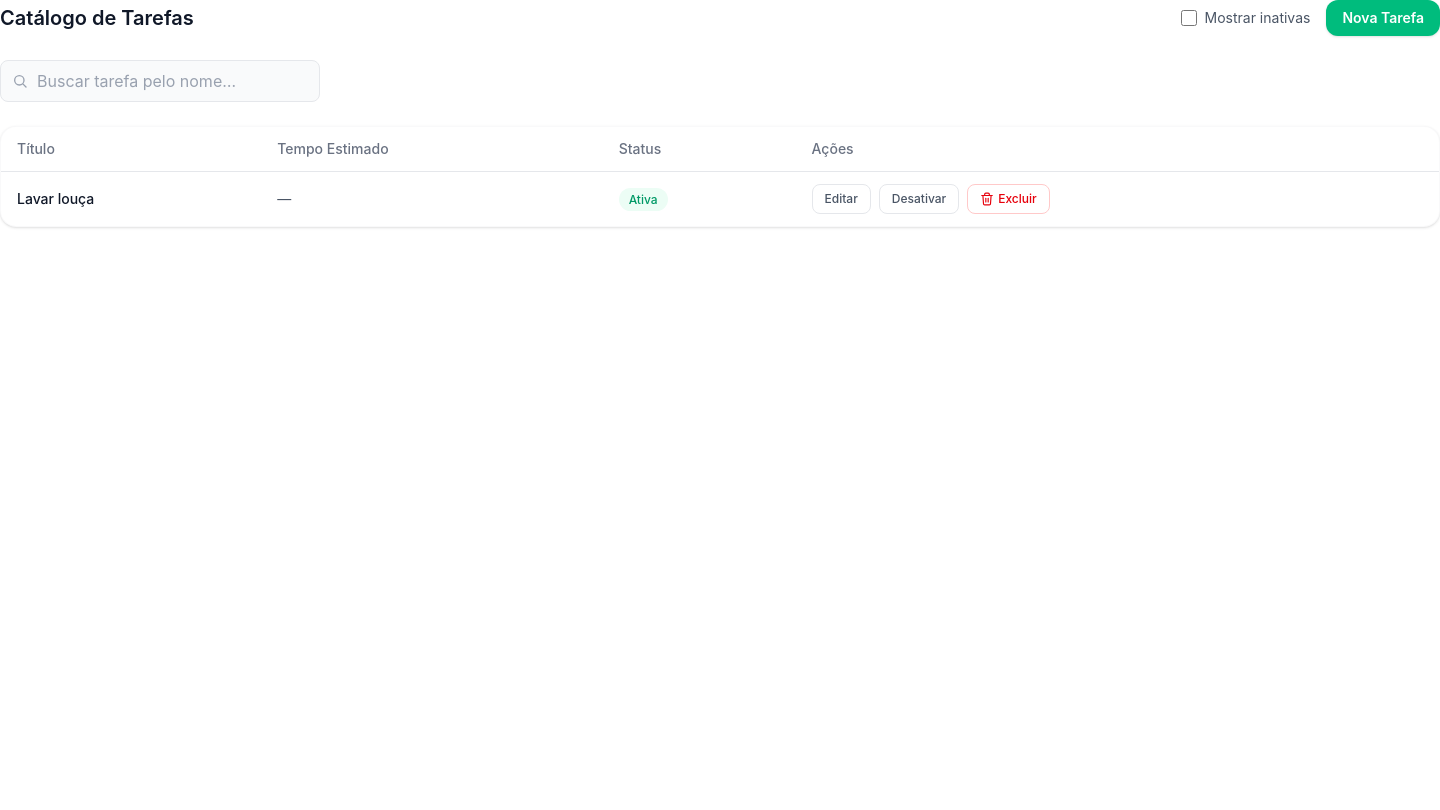
it: TasksPage › mostra o erro da API se a exclusão falhar
Click the button "Excluir" at (1008, 199), box [967,184,1050,214]
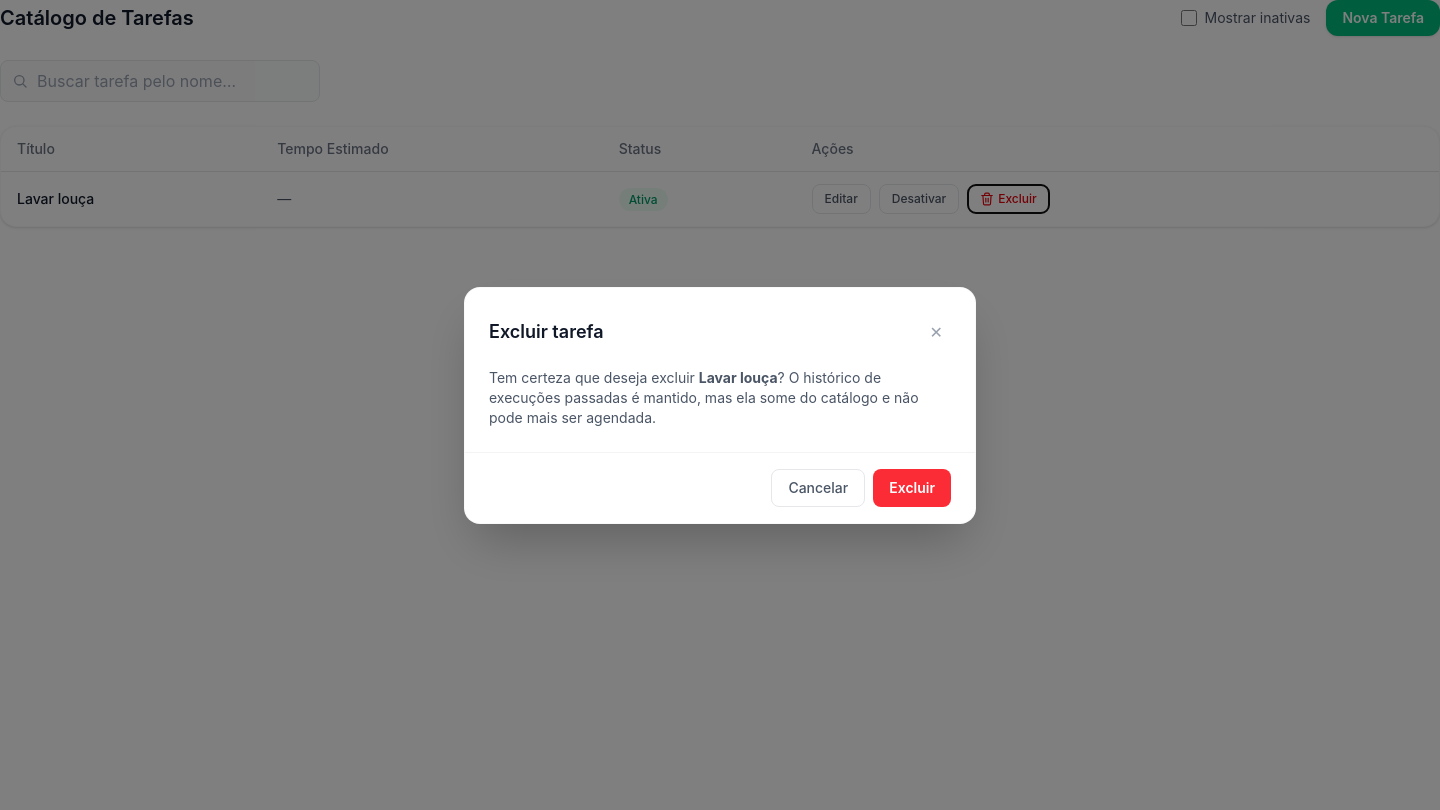
Click the button "Excluir" at (912, 488), box [873,468,951,506]
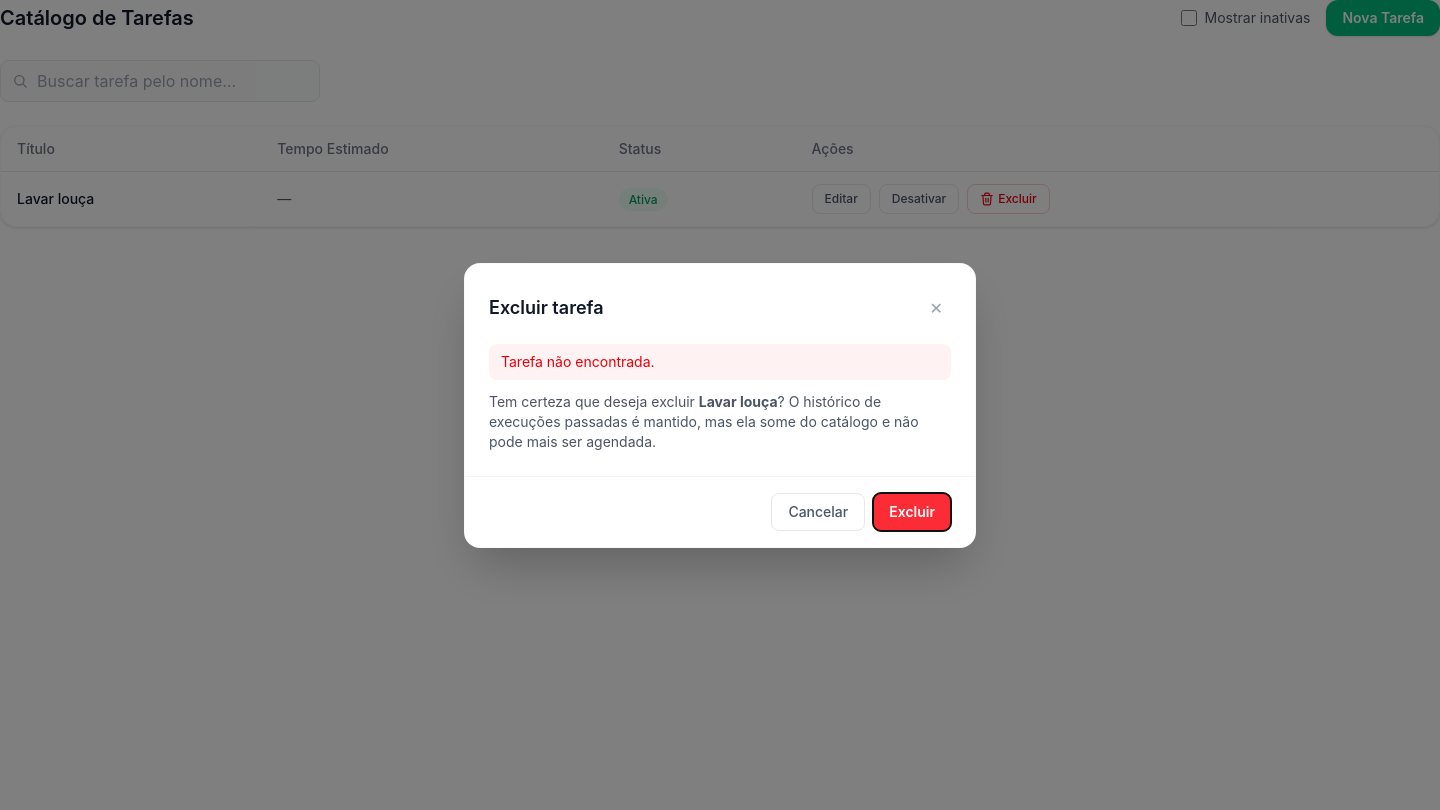
Now the message shows "não encontrada", box [501,352,655,370]
